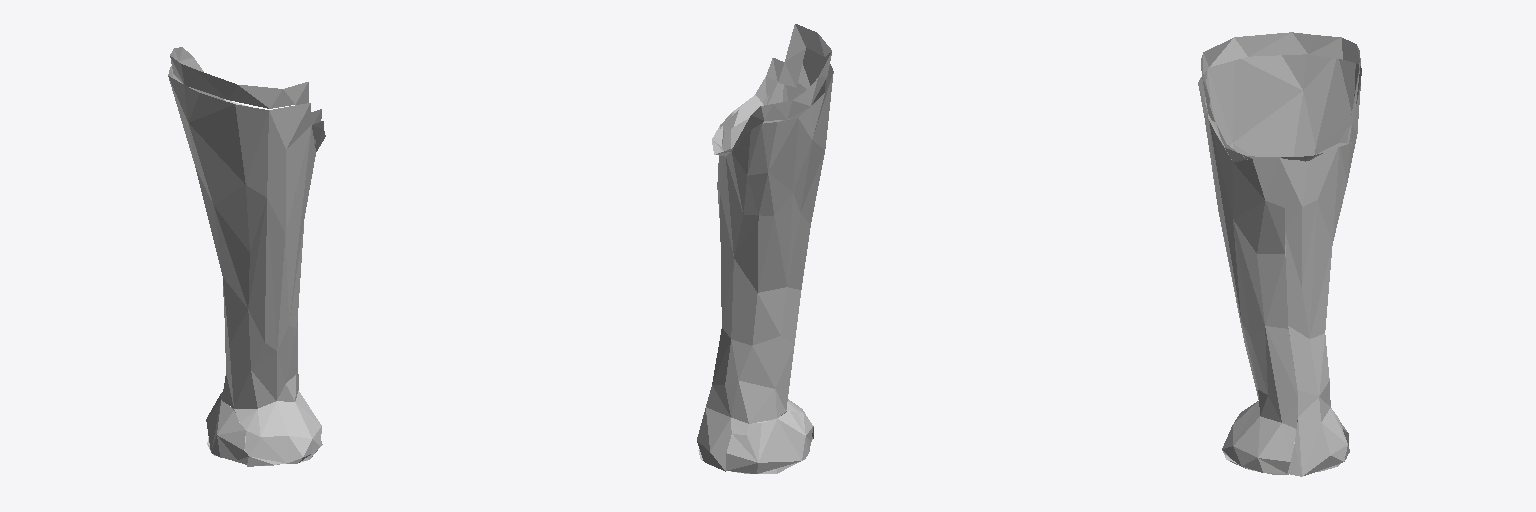
File: elefante_pata_der_enfr.obj
The picture shows the model from 3 angles: view 1: azimuth 30°, elevation 25°; view 2: azimuth 150°, elevation 25°; view 3: azimuth 270°, elevation 25°; orthographic projection.
Visible parts, largest first — view 1: elefante_pata_der_enfr; view 2: elefante_pata_der_enfr; view 3: elefante_pata_der_enfr.
Boxes of the visible parts, x1,y1,x2,y2 form: elefante_pata_der_enfr: [168, 47, 325, 466]; elefante_pata_der_enfr: [697, 24, 833, 473]; elefante_pata_der_enfr: [1198, 32, 1361, 476].
Bounding box in the file's own units: 0.5286 × 1.71 × 0.6347.